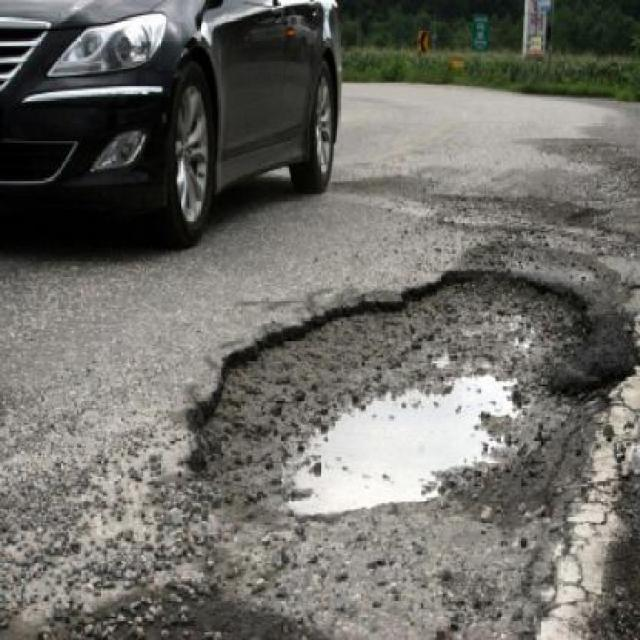pothole: (187, 260, 596, 529)
